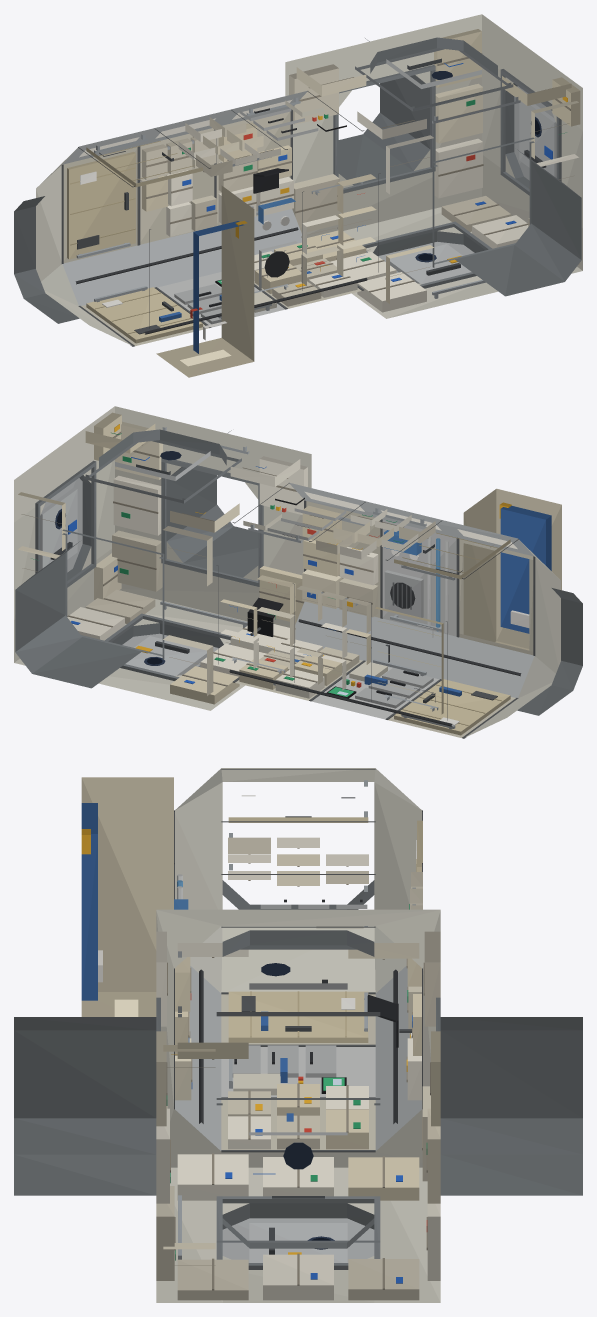
Rendered from m-harmony.glb.
The picture shows the model from 3 angles, top to bottom: view 1: azimuth 30°, elevation 25°; view 2: azimuth 150°, elevation 25°; view 3: azimuth 270°, elevation 25°; orthographic projection. The views are drawn at different scales.
Parts seen in each view (by area): view 1: harmony; view 2: harmony; view 3: harmony.
Boxes of the visible parts, x1=… form: harmony: x1=14, y1=14, x2=582, y2=377; harmony: x1=14, y1=406, x2=582, y2=738; harmony: x1=14, y1=768, x2=582, y2=1302.
Bounding box in the file's own units: 6.87 × 2.68 × 4.8.
